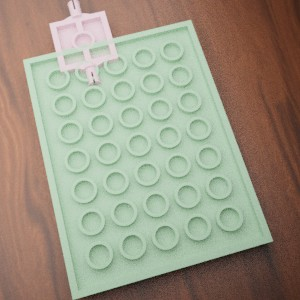lego: (23, 19, 273, 299), (49, 0, 119, 88)
